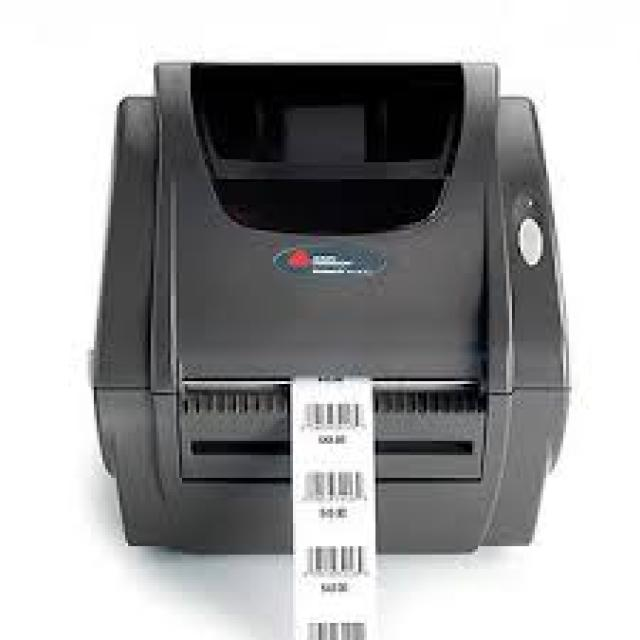printer: (88, 57, 572, 555)
